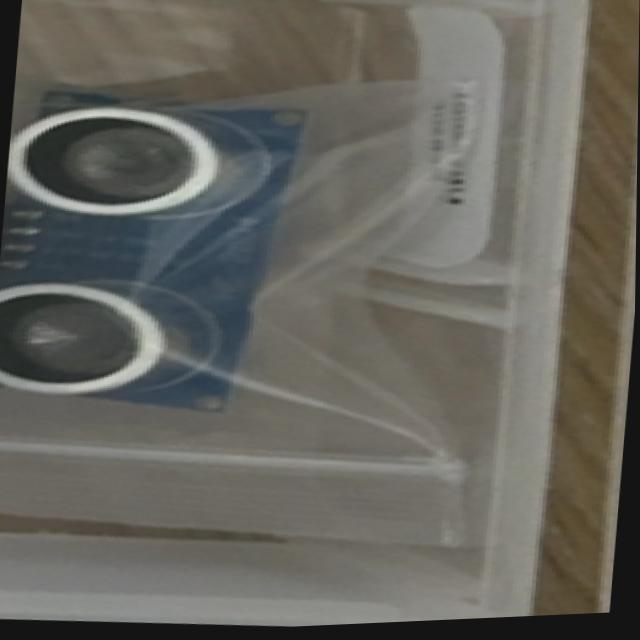Ultrasonic Sensor: (0, 70, 311, 433)
